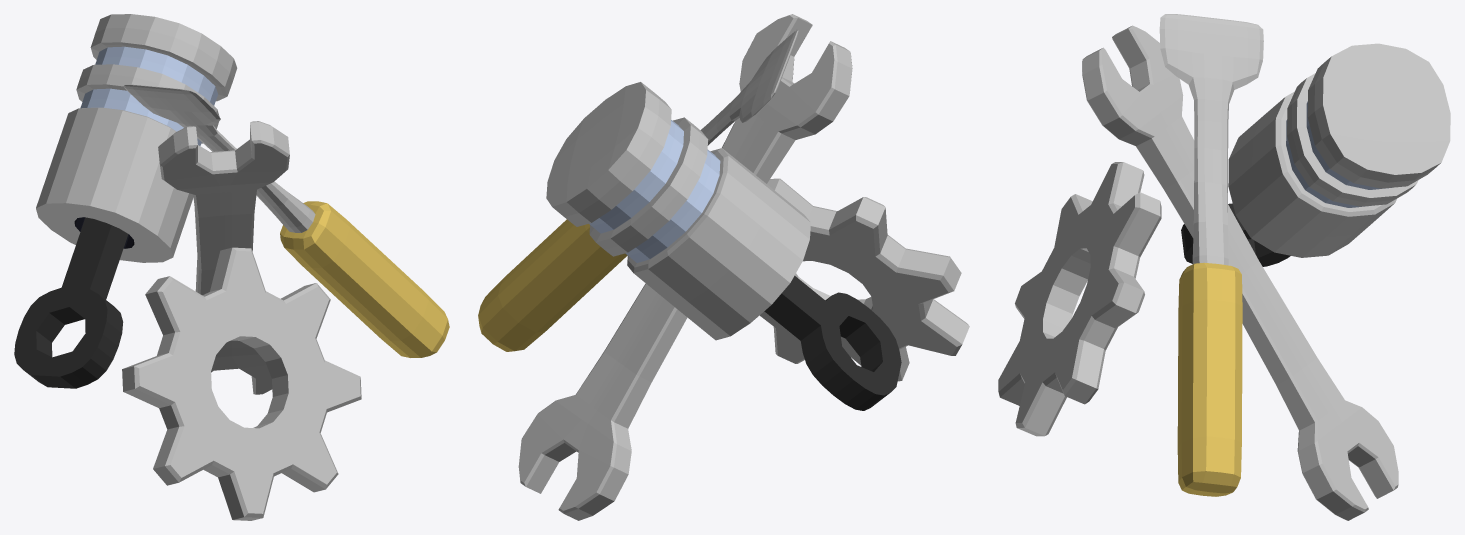
Rendered from General_Upgrade.fbx.
3 views of the same model, side by side, from view 1: azimuth 30°, elevation 25°; view 2: azimuth 150°, elevation 25°; view 3: azimuth 270°, elevation 25° (orthographic). The views are drawn at different scales.
Parts seen in each view (by area): view 1: Piston1, Cog1, Screwdriver1, Wrench1; view 2: Piston1, Wrench1, Cog1, Screwdriver1; view 3: Piston1, Wrench1, Screwdriver1, Cog1.
Boxes of the visible parts, left/top/right/bottom form: Piston1: left=14, top=14, right=237, bottom=388; Cog1: left=122, top=247, right=361, bottom=520; Screwdriver1: left=123, top=84, right=449, bottom=357; Wrench1: left=158, top=121, right=289, bottom=394; Piston1: left=546, top=82, right=901, bottom=410; Wrench1: left=518, top=14, right=852, bottom=520; Cog1: left=760, top=178, right=969, bottom=381; Screwdriver1: left=478, top=29, right=798, bottom=351; Piston1: left=1181, top=43, right=1450, bottom=266; Wrench1: left=1082, top=25, right=1398, bottom=520; Screwdriver1: left=1159, top=14, right=1263, bottom=496; Cog1: left=998, top=162, right=1161, bottom=436.
Bounding box in the file's own units: 733 × 788 × 767.
